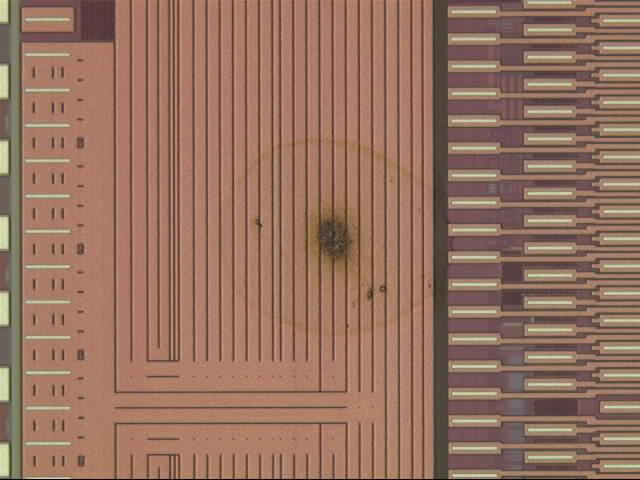PO CONTAMINATION: (196, 133, 488, 346)
